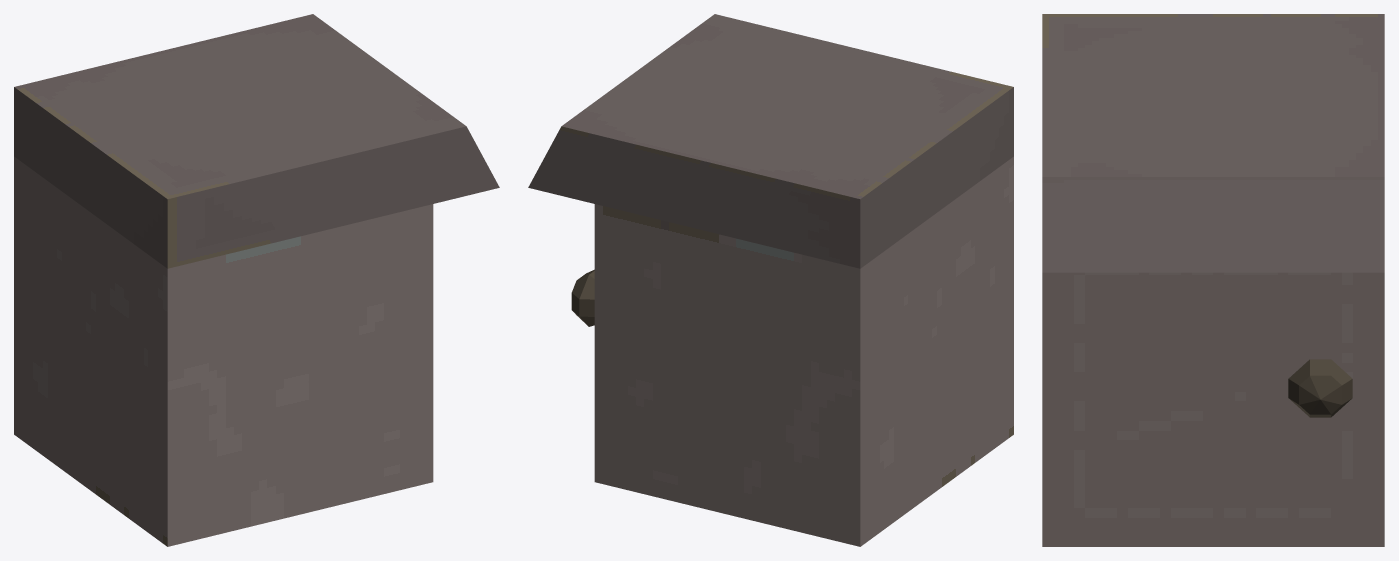
The model's file is cabinet.glb.
3 views of the same model, side by side, from view 1: azimuth 30°, elevation 25°; view 2: azimuth 150°, elevation 25°; view 3: azimuth 270°, elevation 25° (orthographic). The views are drawn at different scales.
Parts seen in each view (by area): view 1: Mesh_0.021; view 2: Mesh_0.021; view 3: Mesh_0.021.
Boxes of the visible parts, x1,y1,x2,y2 form: Mesh_0.021: (14,14,499,546); Mesh_0.021: (528,14,1013,546); Mesh_0.021: (1042,14,1384,546).
Bounding box in the file's own units: 5 × 5 × 4.
Materials: 1 (1 with a texture image).
